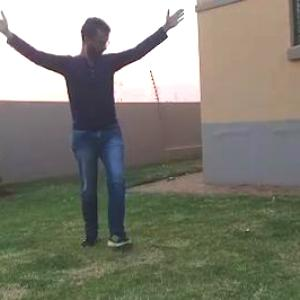takeoff: (1, 0, 210, 261)
